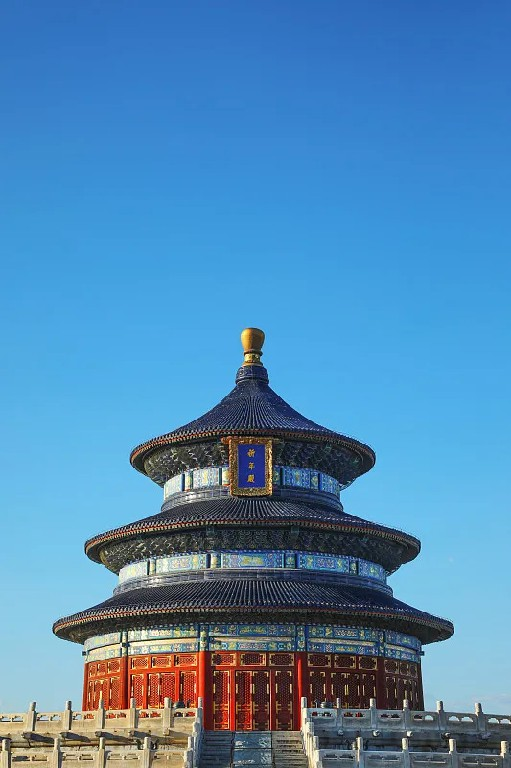Heaven: (52, 325, 457, 732)
